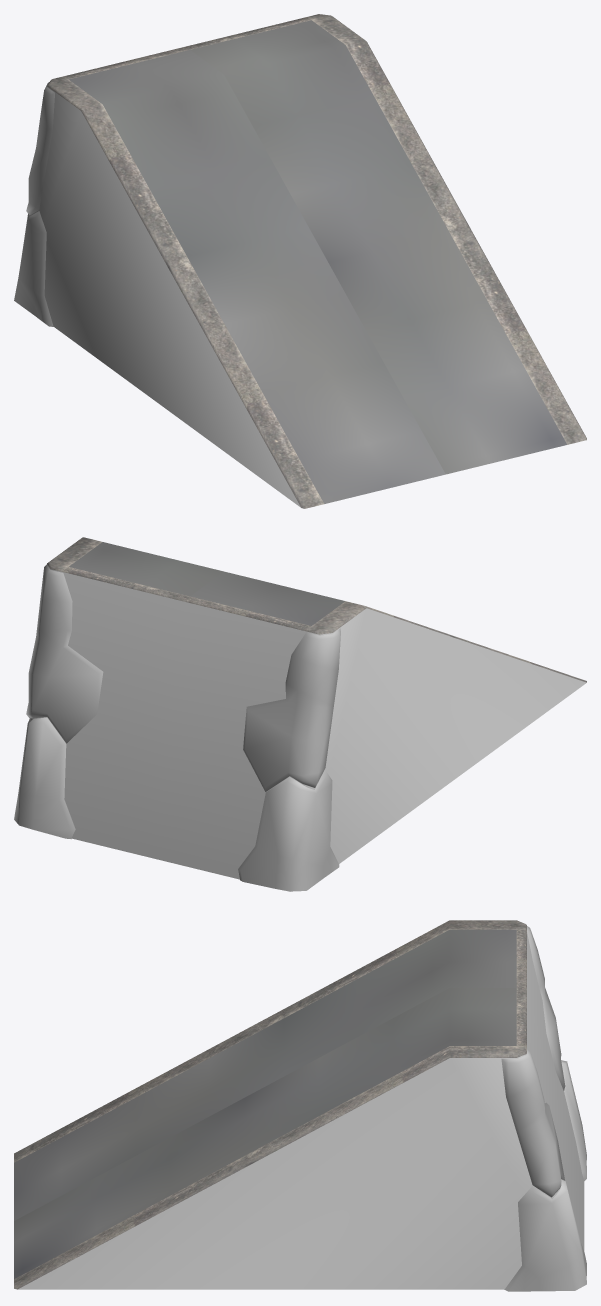
The model's file is JpHouseJ_StoneWall_slope01.fbx.
3 renders of one model, top to bottom at view 1: azimuth 30°, elevation 25°; view 2: azimuth 150°, elevation 25°; view 3: azimuth 270°, elevation 25°, orthographic.
Parts seen in each view (by area): view 1: JpHouseJ_StoneWall_slope01; view 2: JpHouseJ_StoneWall_slope01; view 3: JpHouseJ_StoneWall_slope01.
Boxes of the visible parts, x1,y1,x2,y2 form: JpHouseJ_StoneWall_slope01: (14, 14, 586, 508); JpHouseJ_StoneWall_slope01: (14, 537, 586, 891); JpHouseJ_StoneWall_slope01: (14, 920, 586, 1291).
Bounding box in the file's own units: 2.36 × 1.82 × 4.03.
